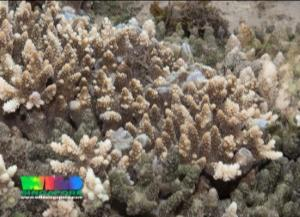bleached_corals: (0, 1, 300, 217)
